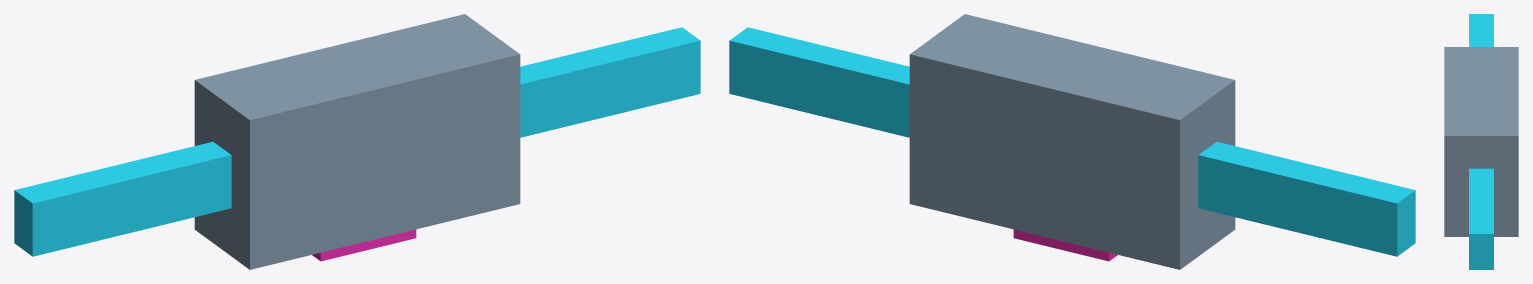
File: future_drone.glb
3 views of the same model, side by side, from view 1: azimuth 30°, elevation 25°; view 2: azimuth 150°, elevation 25°; view 3: azimuth 270°, elevation 25° (orthographic). The views are drawn at different scales.
Parts seen in each view (by area): view 1: part_0, part_2, part_3, part_1; view 2: part_0, part_2, part_3, part_1; view 3: part_0, part_3, part_2.
Boxes of the visible parts, left/top/right/bottom form: part_0: left=194, top=14, right=520, bottom=269; part_2: left=14, top=141, right=231, bottom=256; part_3: left=520, top=27, right=700, bottom=137; part_1: left=312, top=229, right=416, bottom=261; part_0: left=909, top=14, right=1235, bottom=269; part_2: left=1198, top=141, right=1415, bottom=256; part_3: left=729, top=27, right=909, bottom=137; part_1: left=1013, top=229, right=1117, bottom=261; part_0: left=1444, top=47, right=1518, bottom=236; part_3: left=1469, top=168, right=1493, bottom=269; part_2: left=1469, top=14, right=1493, bottom=46.
Bounding box in the file's own units: 2.1 × 0.525 × 0.3.
